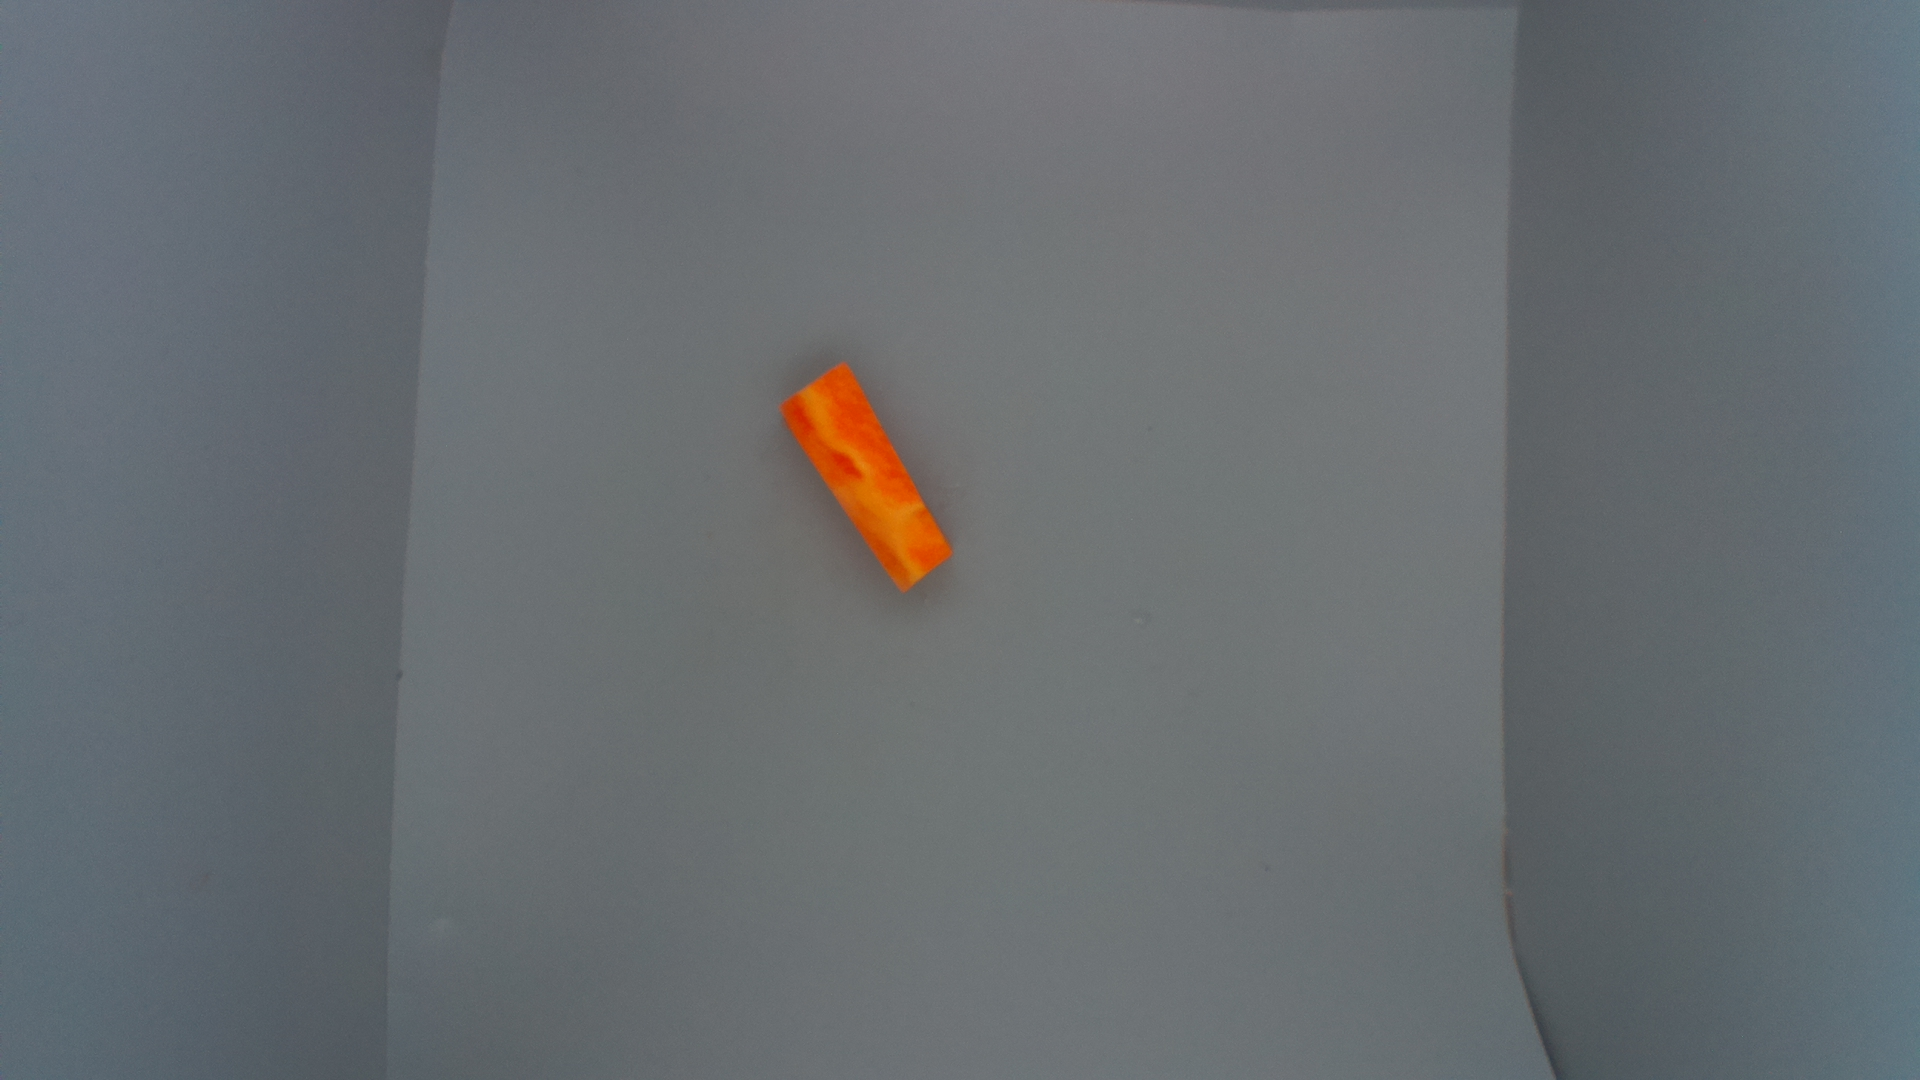carrot: (778, 363, 956, 597)
